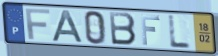0: (83, 10, 107, 46)
A: (51, 9, 86, 44)
B: (108, 11, 138, 47)
F: (24, 8, 51, 41), (139, 14, 162, 47)
L: (167, 14, 193, 50)
